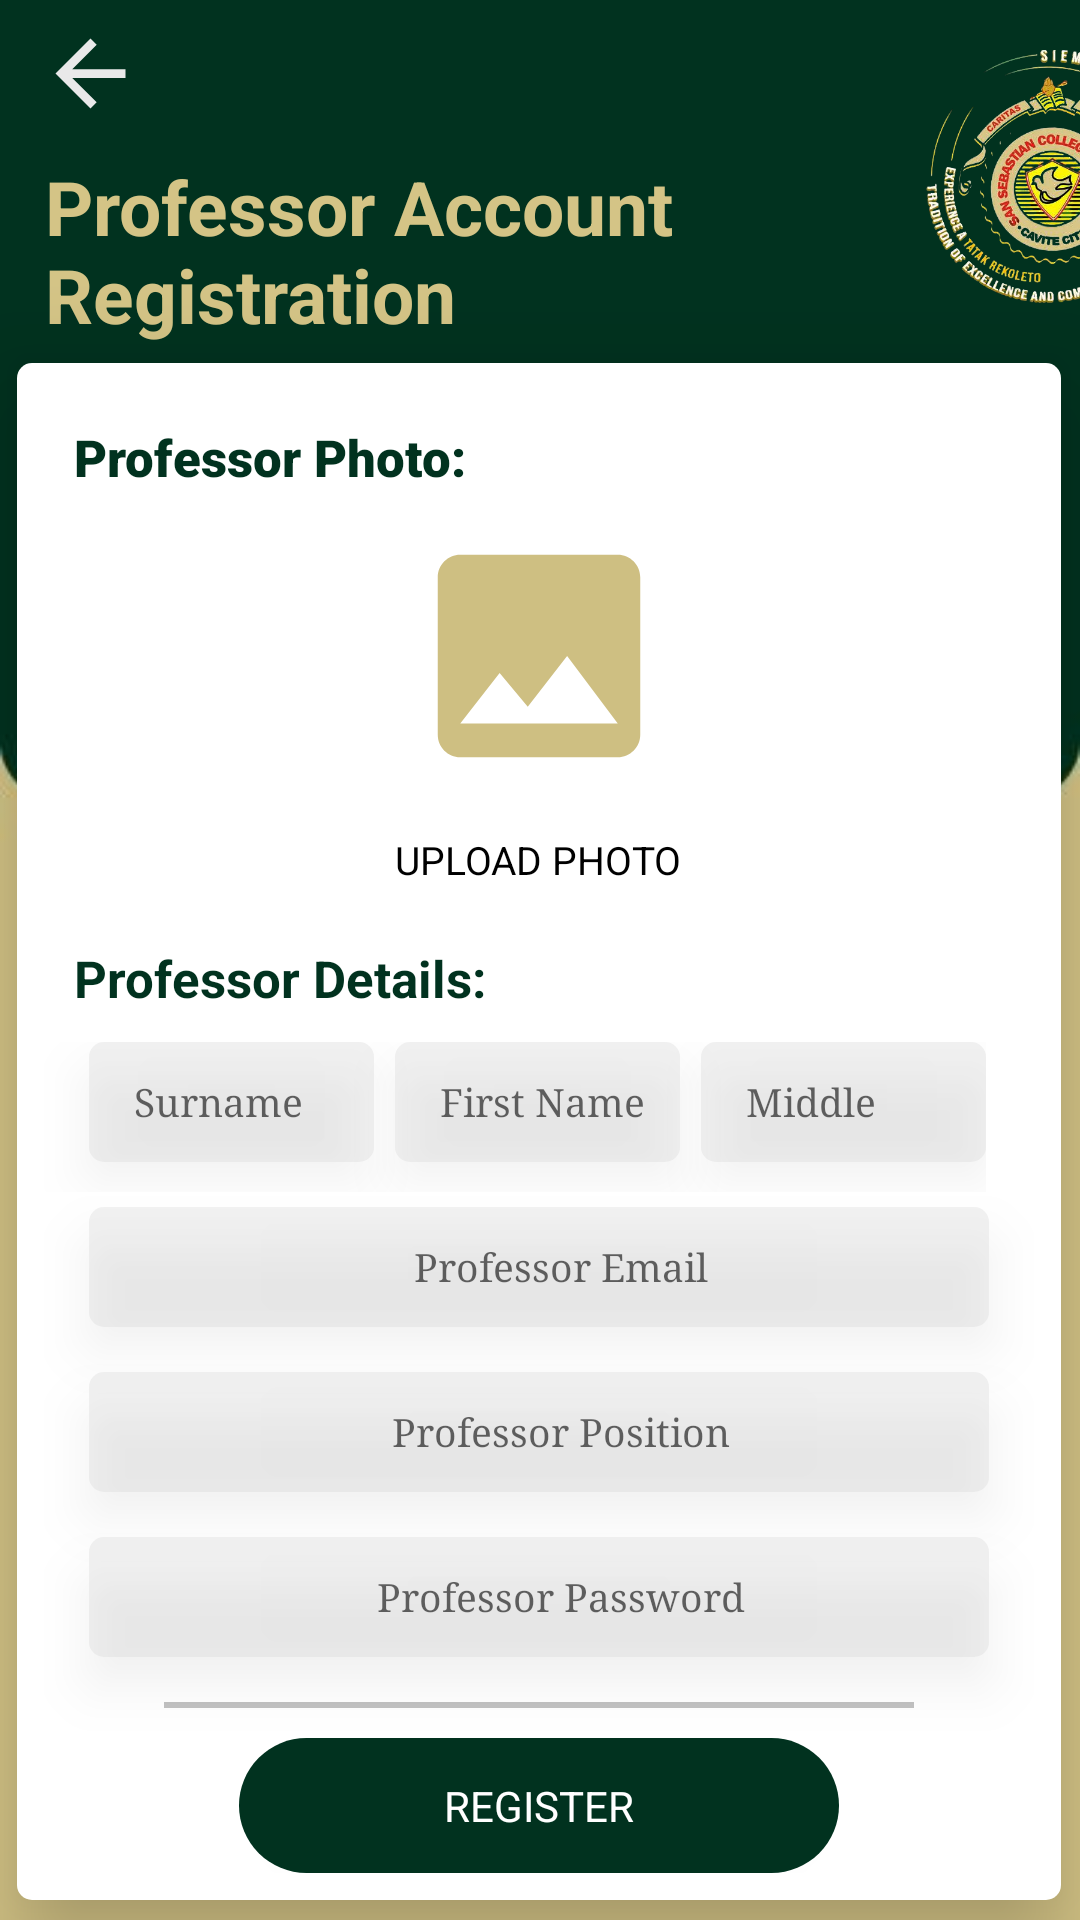

Named icons in this screenshot (1080×1920) and their centers, point (x, y):
arrow back: point (90, 73)
